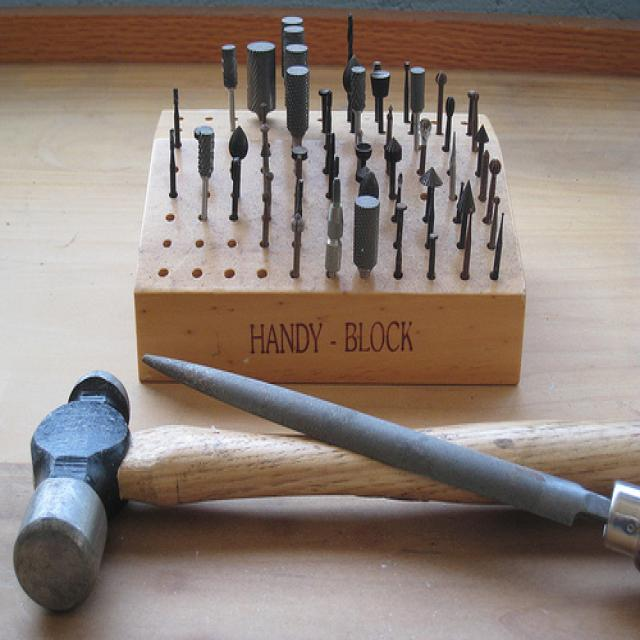hammer: (0, 345, 234, 614)
